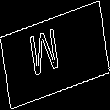M_S: (37, 25, 73, 85)
